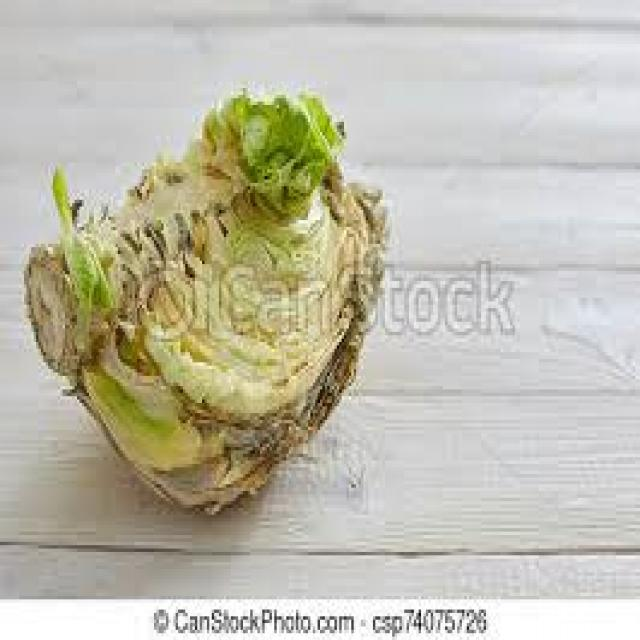organic waste: (22, 84, 385, 504)
